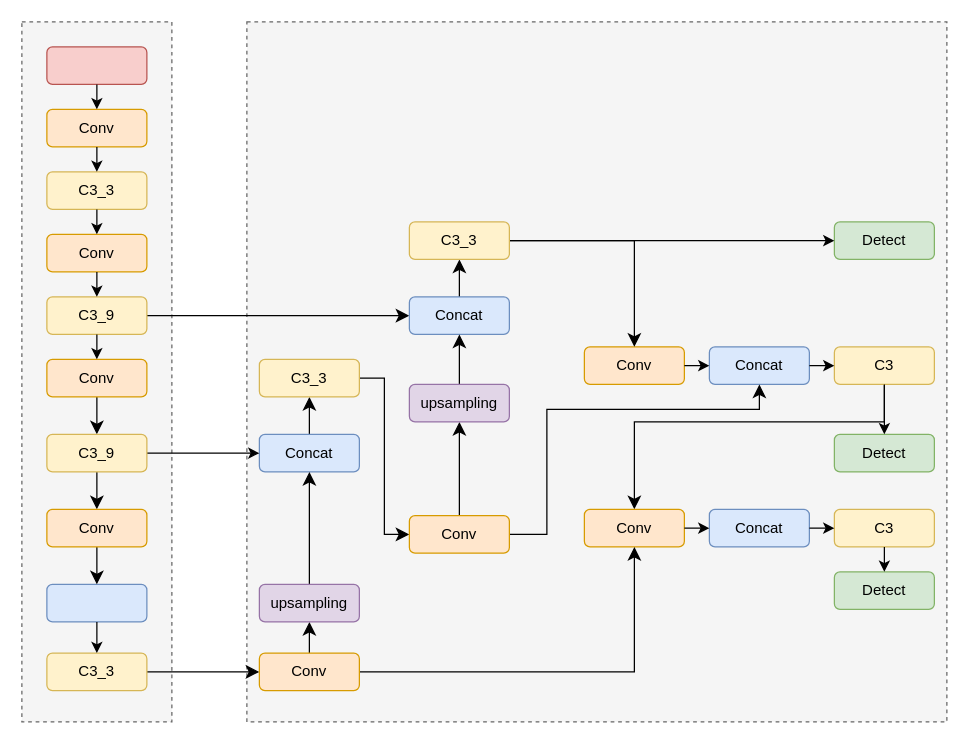
The diagram is 969 pixels wide and 744 high, and some of its shapes have lost their labels. The box of each missing label's shape, as (x1, y1, x2, y2) in pixels:
Focus: (46, 46, 147, 84)
SPP: (46, 583, 147, 622)
